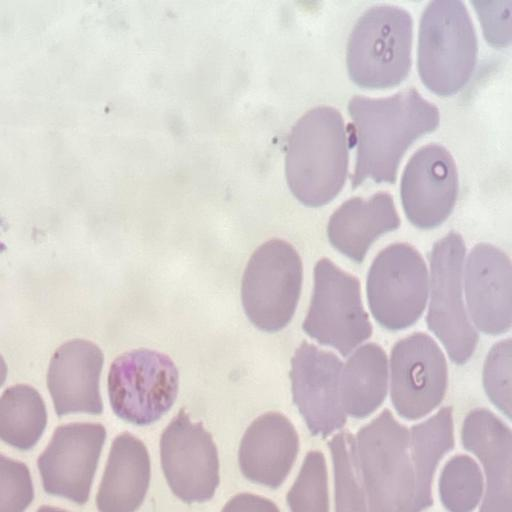Infected: (108, 350, 179, 426)
Uninfected: (341, 88, 443, 185), (302, 257, 374, 356), (423, 233, 477, 363), (284, 107, 348, 208), (344, 4, 416, 86), (240, 237, 302, 331), (420, 0, 480, 93), (400, 141, 461, 232), (290, 341, 347, 436), (367, 241, 427, 329), (391, 333, 450, 421), (158, 416, 217, 502), (44, 339, 104, 420), (331, 192, 400, 262), (42, 421, 100, 503), (240, 411, 298, 488), (464, 241, 512, 331), (94, 435, 149, 512), (336, 344, 390, 419), (0, 385, 47, 448), (437, 455, 484, 512)
